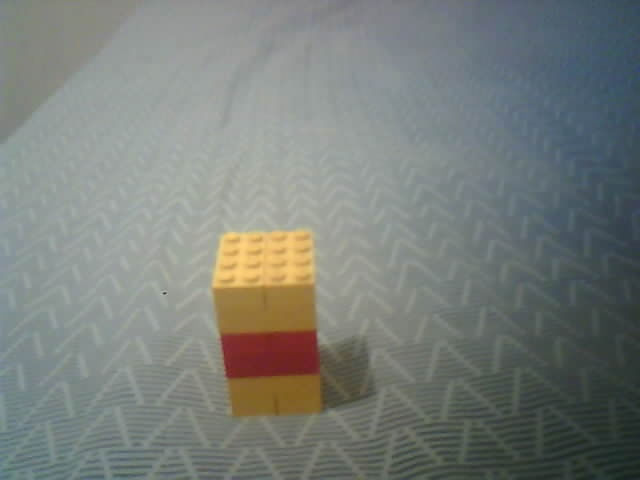lego: (209, 228, 323, 419)
